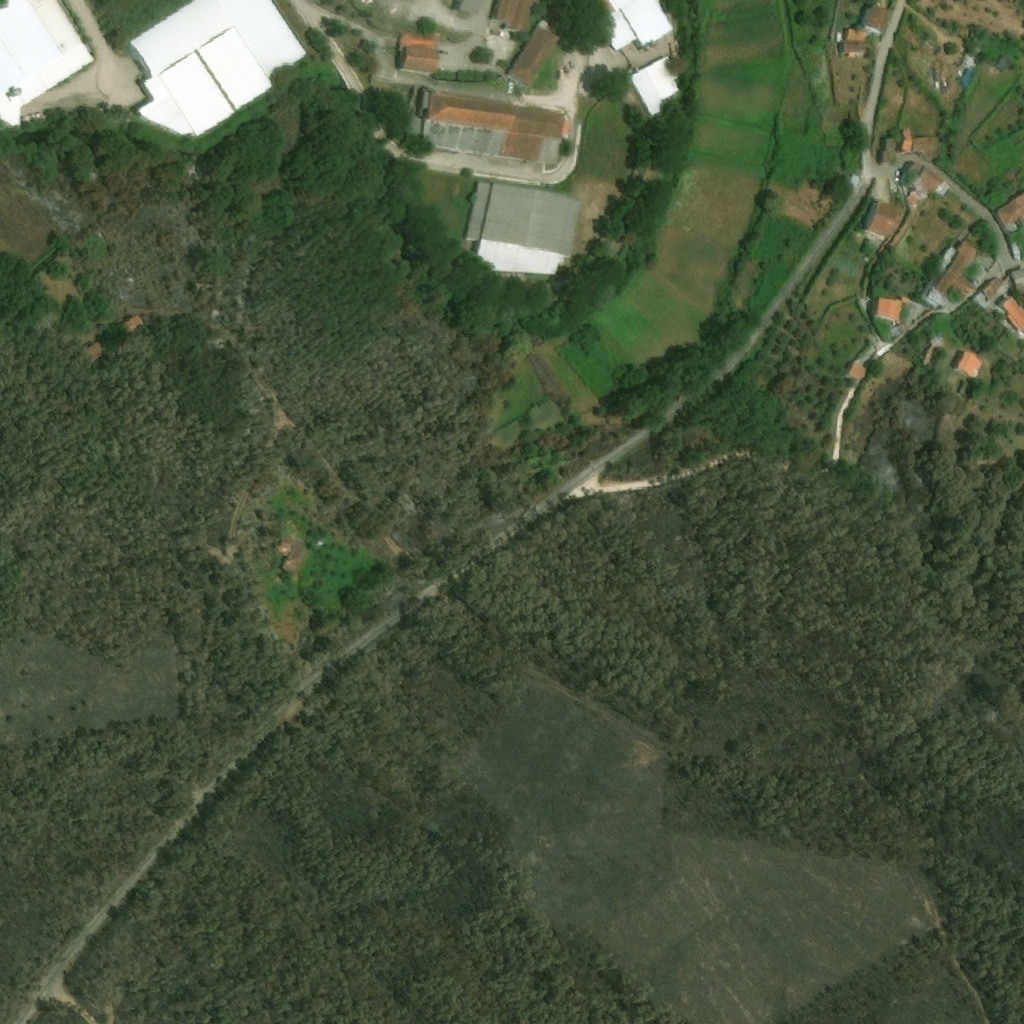0 no-damage: (130, 0, 309, 137), (0, 0, 97, 140), (464, 184, 583, 275), (423, 92, 572, 163), (594, 0, 676, 50), (923, 240, 979, 310), (629, 57, 681, 116), (510, 27, 561, 87), (401, 33, 439, 74), (274, 540, 310, 577), (868, 202, 902, 238), (498, 0, 536, 32), (995, 195, 1023, 228), (867, 4, 895, 33), (958, 351, 984, 380), (1003, 296, 1023, 331), (921, 167, 947, 192), (845, 362, 869, 384), (916, 137, 941, 158), (983, 278, 1005, 301), (879, 299, 902, 320), (460, 0, 484, 16), (902, 129, 916, 151), (846, 29, 869, 42), (844, 44, 865, 58), (996, 55, 1014, 71), (883, 140, 895, 163), (1011, 271, 1023, 290), (960, 71, 974, 87), (906, 193, 923, 206), (1012, 246, 1022, 263), (963, 54, 977, 66), (540, 19, 551, 29), (902, 297, 910, 304), (863, 257, 871, 264)
